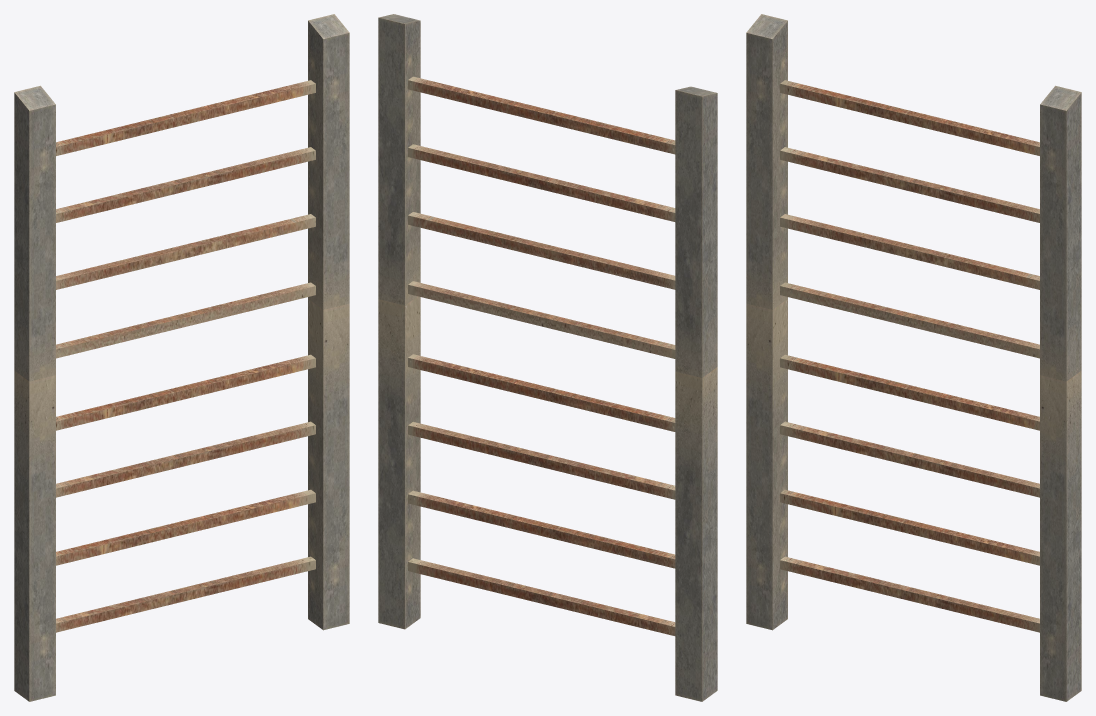
Rendered from DesertBarrier 3.glb.
The picture shows the model from 3 angles, left to right: view 1: azimuth 30°, elevation 25°; view 2: azimuth 150°, elevation 25°; view 3: azimuth 330°, elevation 25°; orthographic projection.
Visible parts, largest first — view 1: var3_var3_0.003; view 2: var3_var3_0.003; view 3: var3_var3_0.003.
Part boxes in pixels (x1=…): var3_var3_0.003: x1=14, y1=14, x2=349, y2=701; var3_var3_0.003: x1=378, y1=14, x2=717, y2=701; var3_var3_0.003: x1=746, y1=14, x2=1081, y2=701.
Size of the model in its own units: 1.51 by 2.71 by 0.125.
Materials: 1 (1 with a texture image).
